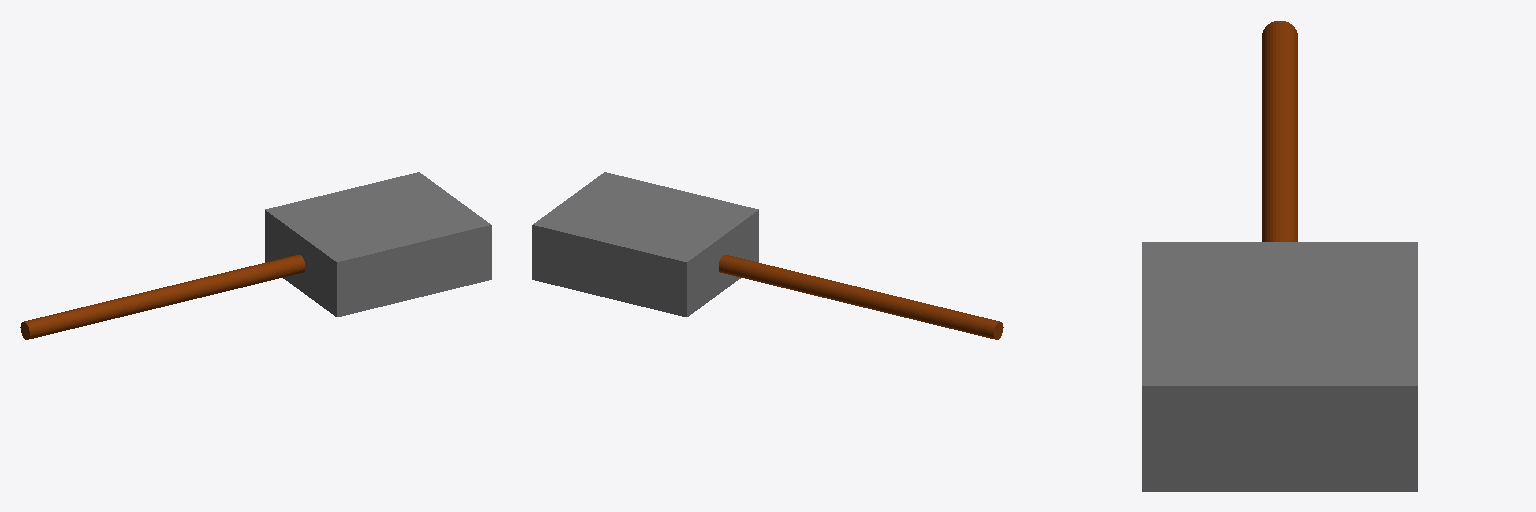
URDF robot description (handle_head):
<?xml version="1.0"?>
<robot name="handle_head">

  <link name="handle_head">
    <!-- Handle -->
    <visual>
              <origin xyz="0 0 0" rpy="0 -1.5707963267948966 0"/>
        <geometry>
          <cylinder length="0.18599605651977913" radius="0.005506923642604368"/>
        </geometry>
        
      <material name="brown">
        <color rgba="0.55 0.27 0.07 1.0"/>
      </material>
    </visual>
    <collision>
              <origin xyz="0 0 0" rpy="0 -1.5707963267948966 0"/>
        <geometry>
          <cylinder length="0.18599605651977913" radius="0.005506923642604368"/>
        </geometry>
        
    </collision>

    <!-- Head -->
    <visual>
              <origin xyz="0.14515846334896276 0 0" rpy="0 0 0"/>
        <geometry>
          <box size="0.10432087017814637 0.08445300342328814 0.03553412554010387"/>
        </geometry>
        
      <material name="gray">
        <color rgba="0.5 0.5 0.5 1.0"/>
      </material>
    </visual>
    <collision>
              <origin xyz="0.14515846334896276 0 0" rpy="0 0 0"/>
        <geometry>
          <box size="0.10432087017814637 0.08445300342328814 0.03553412554010387"/>
        </geometry>
        
    </collision>

    <inertial>
      <origin xyz="0.1360383952053686 0 0" rpy="0 0 0"/>
      <mass value="0.13944107890251053"/>
      <inertia ixx="9.155336418714296e-05" iyy="0.0003326371682797315" izz="0.0003965576110363133" ixy="0" ixz="0" iyz="0"/>
    </inertial>
  </link>

</robot>

--- What the picture shows (computed from the rendered views, not written in the file) ---
Views: 3 orthographic renders of the robot side by side, from view 1: azimuth 30°, elevation 25°; view 2: azimuth 150°, elevation 25°; view 3: azimuth 270°, elevation 25°.
Robot: handle_head — 1 links, 0 joints (none); root link handle_head; default pose: every joint at zero.
Visible links, largest first — view 1: handle_head; view 2: handle_head; view 3: handle_head.
Link boxes in pixels (left/top/right/bottom): handle_head: left=20, top=172, right=491, bottom=339; handle_head: left=532, top=172, right=1003, bottom=339; handle_head: left=1142, top=21, right=1417, bottom=491.
Size in the robot's own frame: 0.2903 by 0.0845 by 0.0355 metres.
Geometry: primitives only (box / cylinder / sphere), no mesh files.
